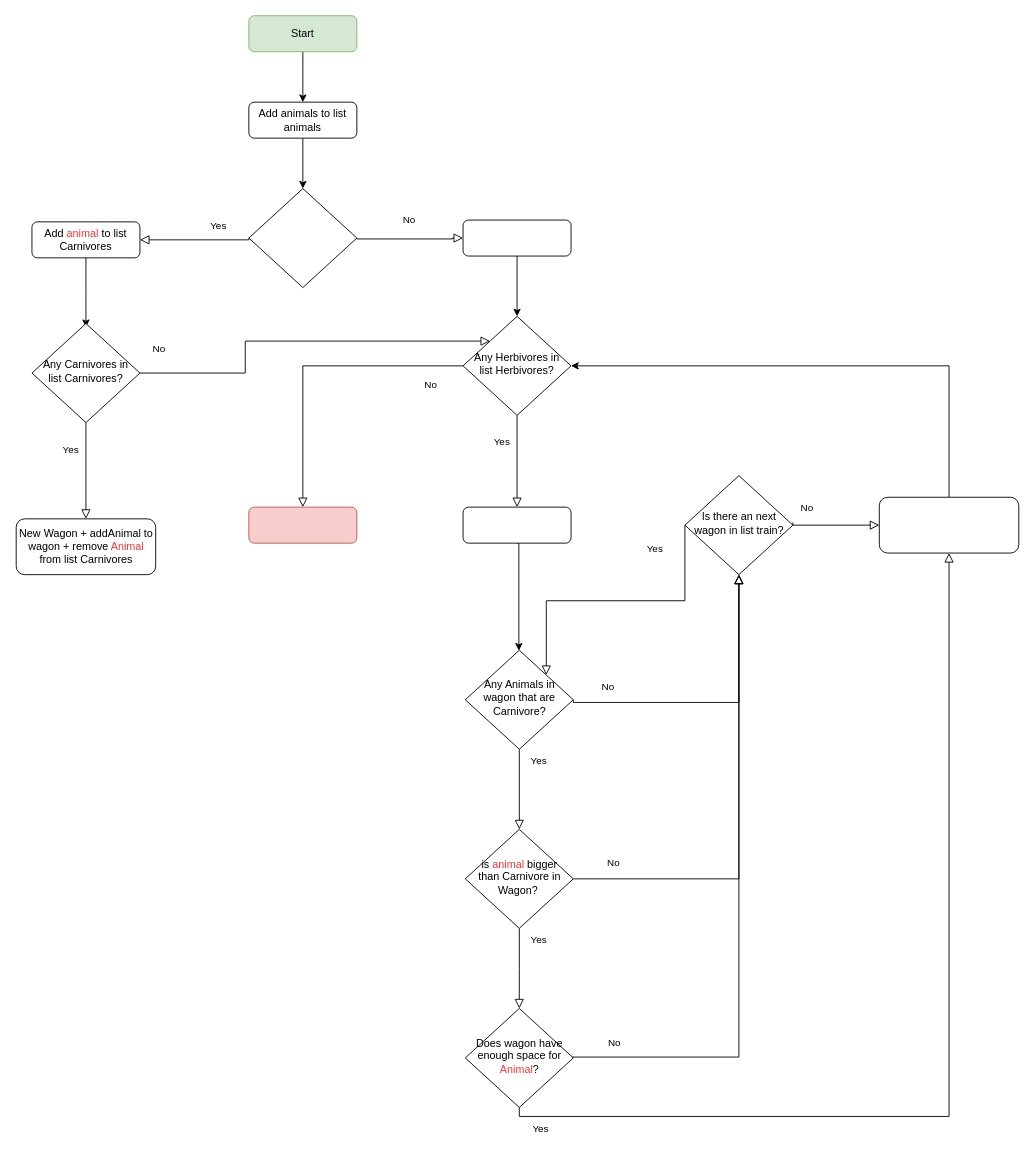
Image size: 1034x1150. Some labels were removed from this diagram. Here are the shapes that lost their labels. From the top down, the centre of each, then its label:
the point at 302,238: Is animal in list animals a carnivore?
the point at 516,237: Add animal to list Herbivores
the point at 302,524: End
the point at 516,524: Take one animal out of list Herbivores
the point at 948,524: New Wagon + addAnimal to wagon + remove Animal from list Herbivores
